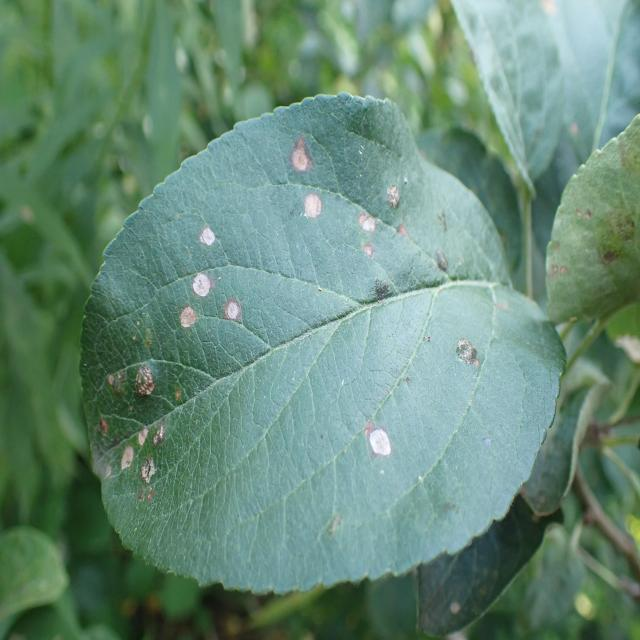frog-eye-leaf-spot: (78, 90, 567, 596)
